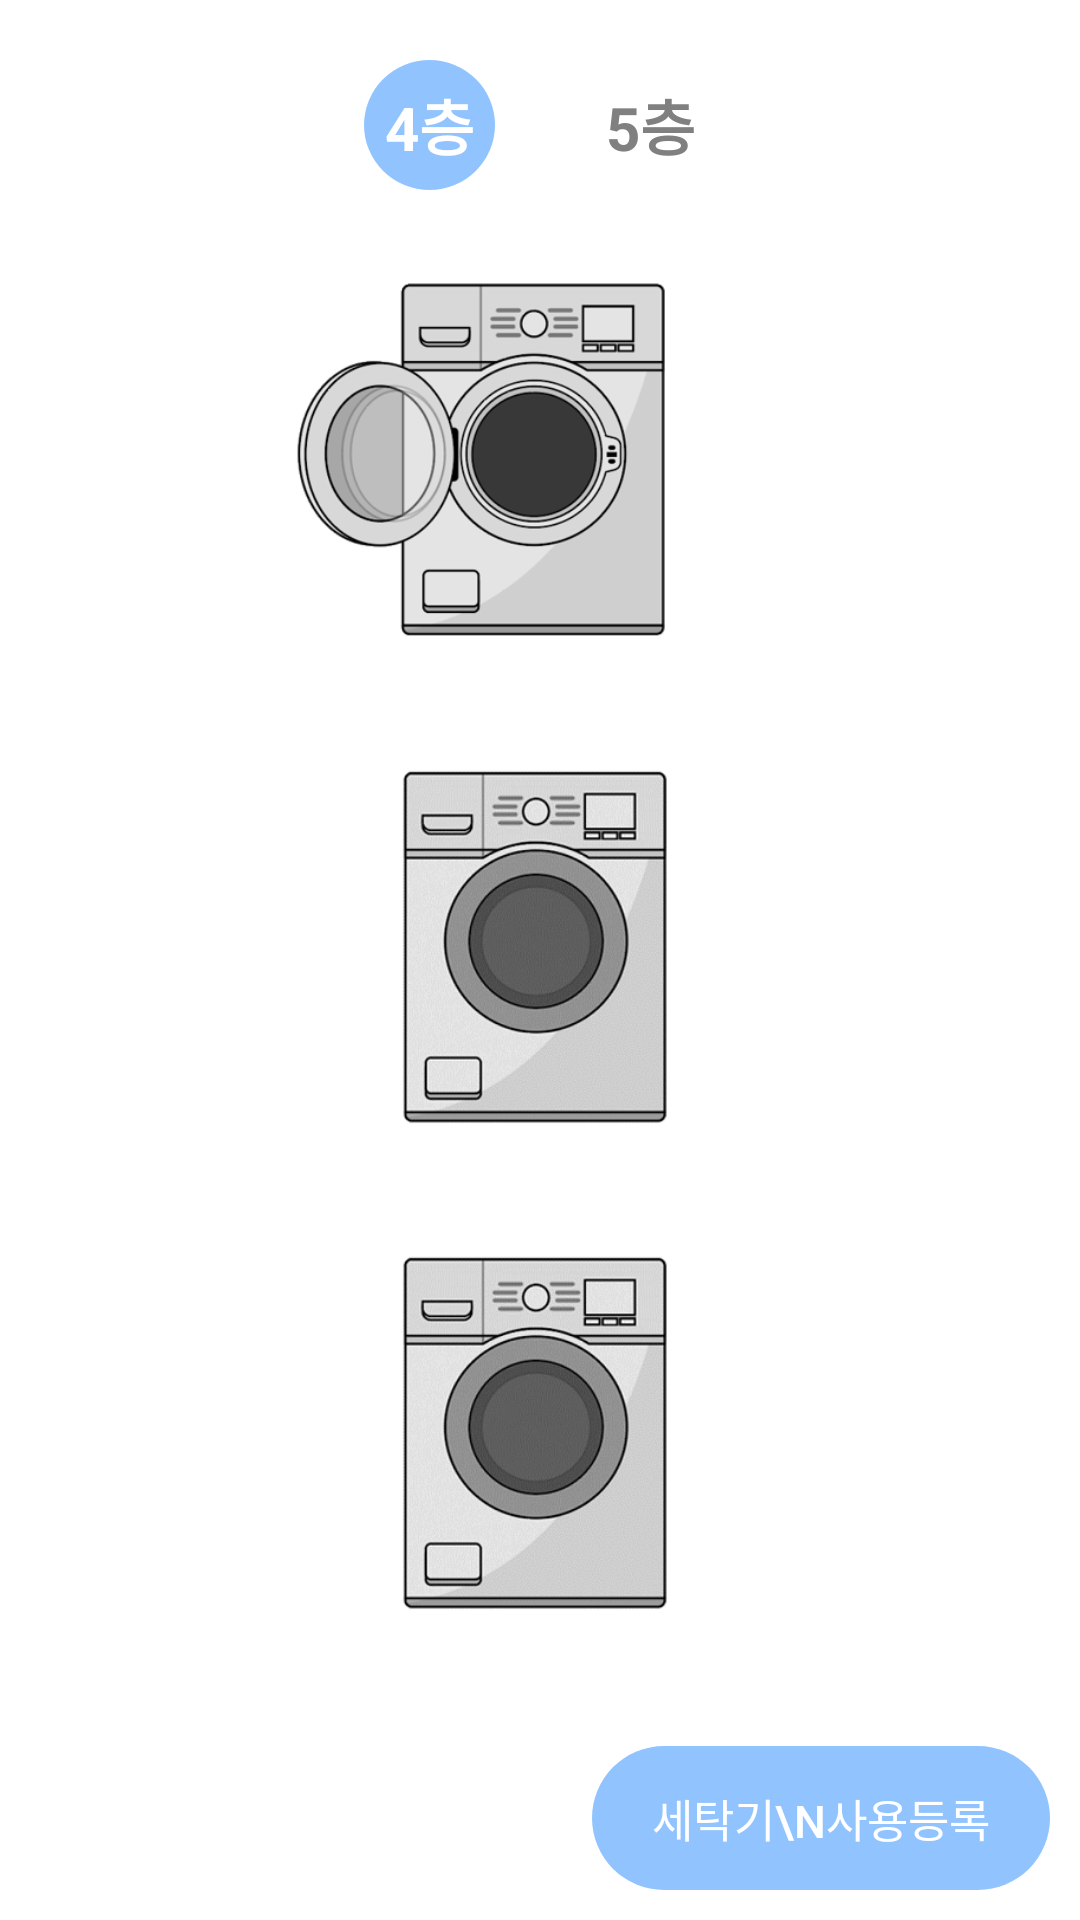

Point at icon controls on the screen. Image size 1080*1920, points as point (x, y).
washing machine closed: point (535, 947), point (535, 1433)
